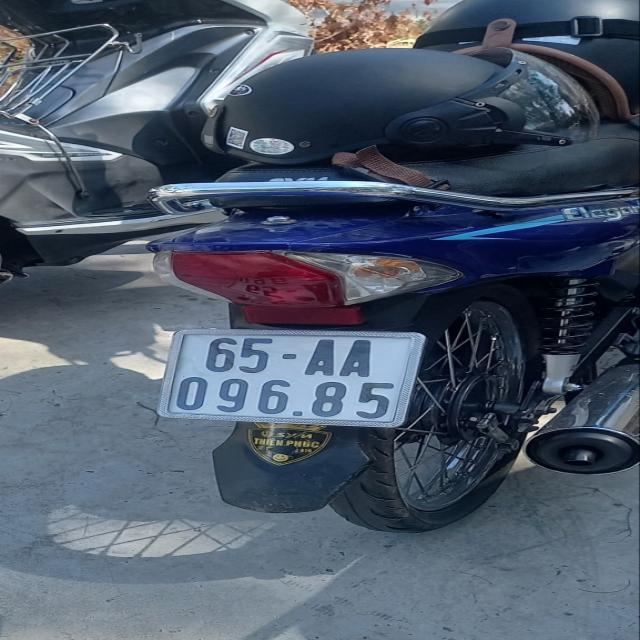0: (177, 376, 209, 414)
5: (356, 382, 395, 420), (241, 338, 275, 374)
6: (206, 337, 238, 373), (259, 380, 291, 416)
8: (312, 381, 346, 418)
9: (218, 378, 248, 414)
A: (338, 338, 372, 378), (304, 338, 336, 377)
